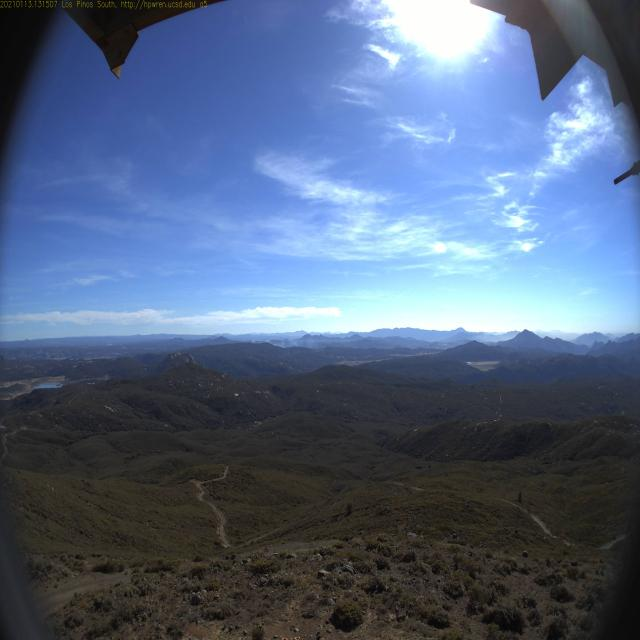smoke: (264, 336, 300, 350), (302, 336, 322, 352), (249, 331, 264, 347)
